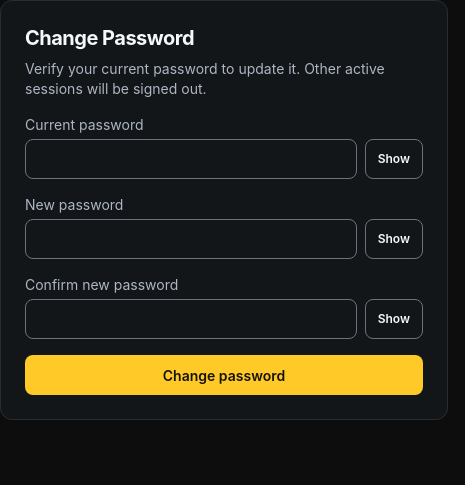
Test: ChangePasswordForm › requires the current password and an eight-character new password
Type "short" into the password field labelled "New password" at {"x": 191, "y": 239}, box [25,219,357,259]
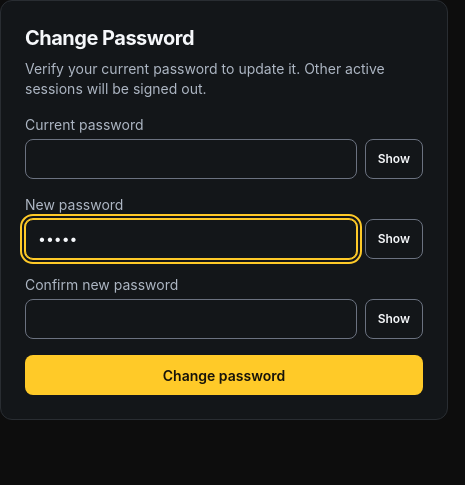
Type "short" into the password field labelled "Confirm new password" at {"x": 191, "y": 319}, box [25,299,357,339]
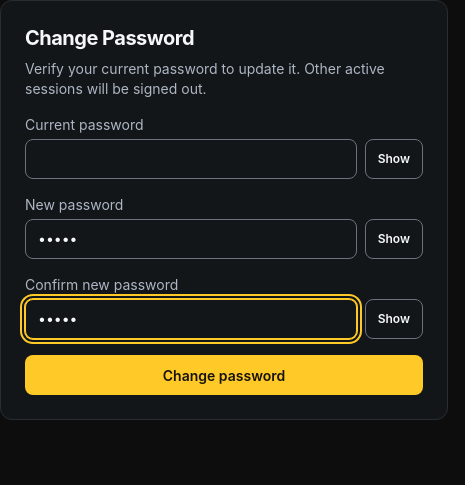
Click the button "Change password" at {"x": 224, "y": 375}, box [25,355,423,395]
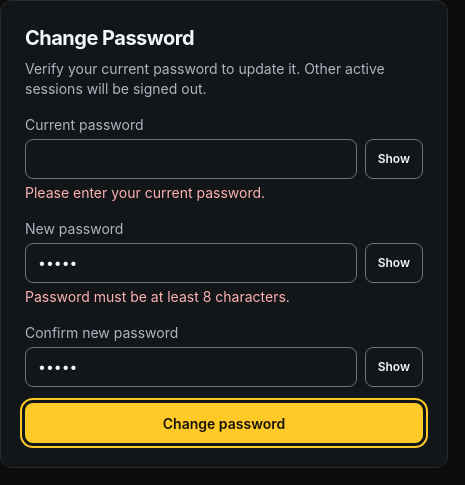
Expected: the text "Please enter your current password." is shown, [25,184,265,201]
Expected: the text "Password must be at least 8 characters." is shown, [25,288,290,305]
